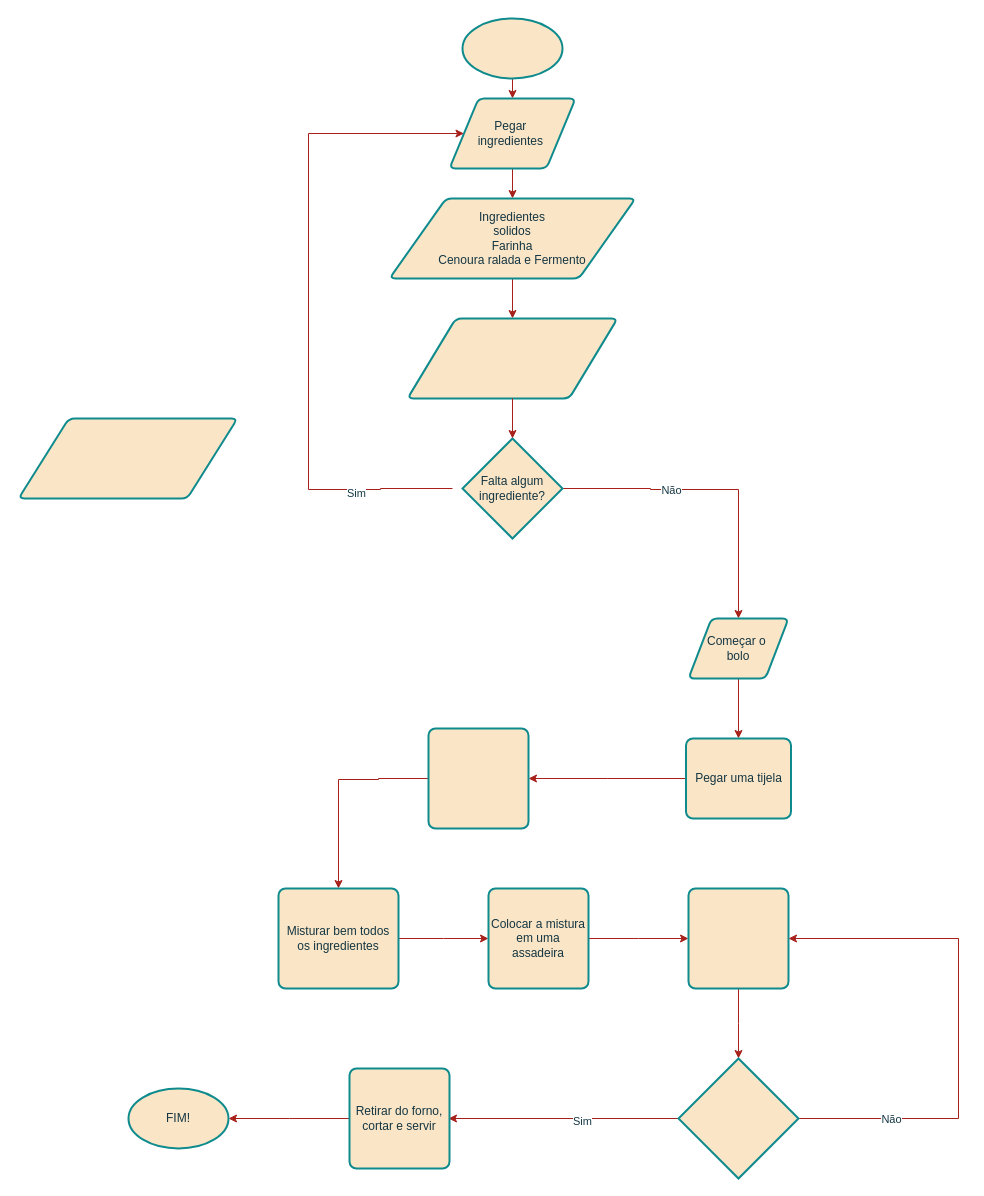
Some shapes in this 984 by 1196 pixel diagram are drawn without their labels. Here are the shapes that lost their labels. From the top down, the centre of each, then its label:
At (x=512, y=48): "inicio".
At (x=512, y=358): "Ingredientes liquidos Leite, Ovo".
At (x=478, y=778): "Acrescentar os ingredientes solidos e liquidos".
At (x=738, y=938): "Colocar no forno para assar".
At (x=738, y=1118): "Está bem assado?".
